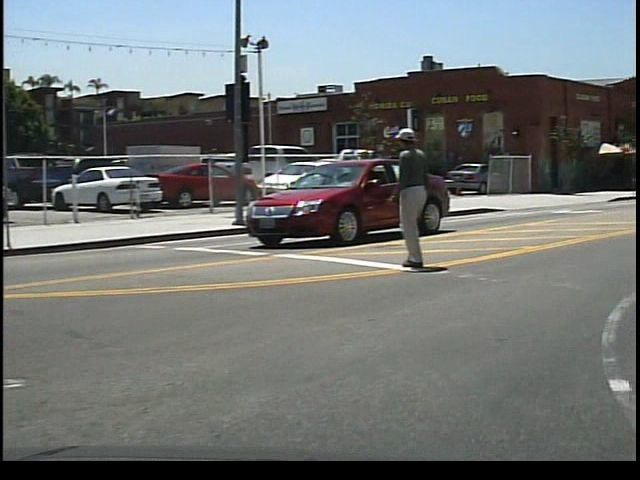person: (390, 120, 460, 277)
